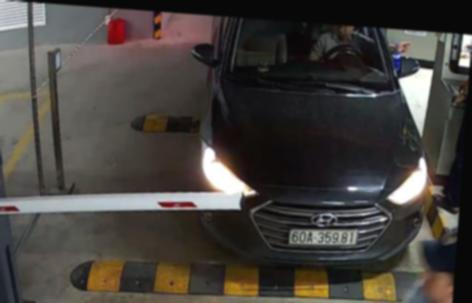License_Plate: (286, 222, 362, 255)
